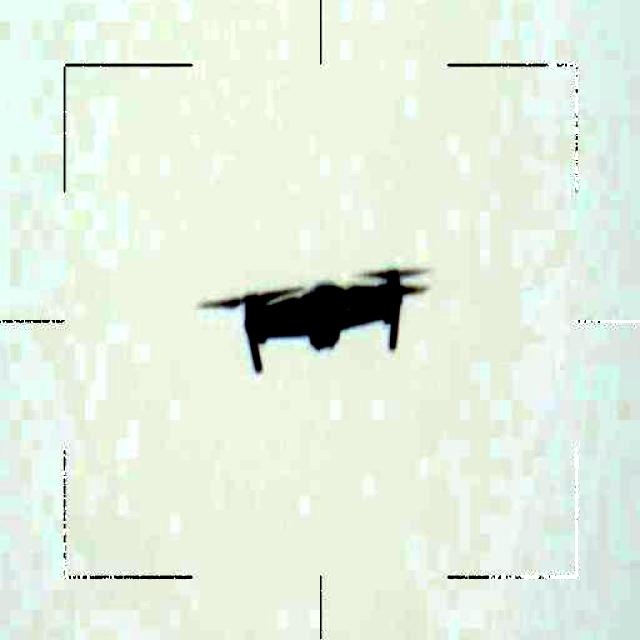bird: (192, 258, 434, 375)
